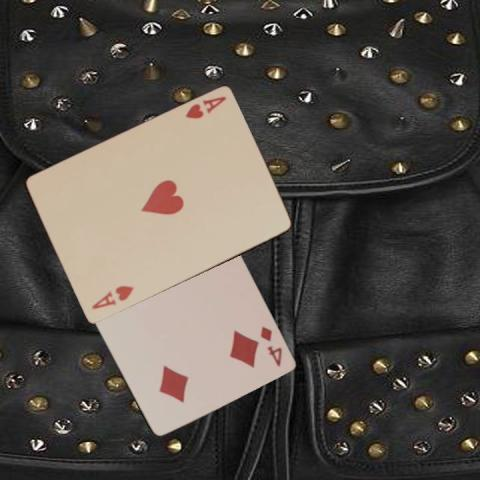4d: (257, 323, 283, 368)
Ah: (89, 283, 135, 311), (182, 93, 228, 121)
